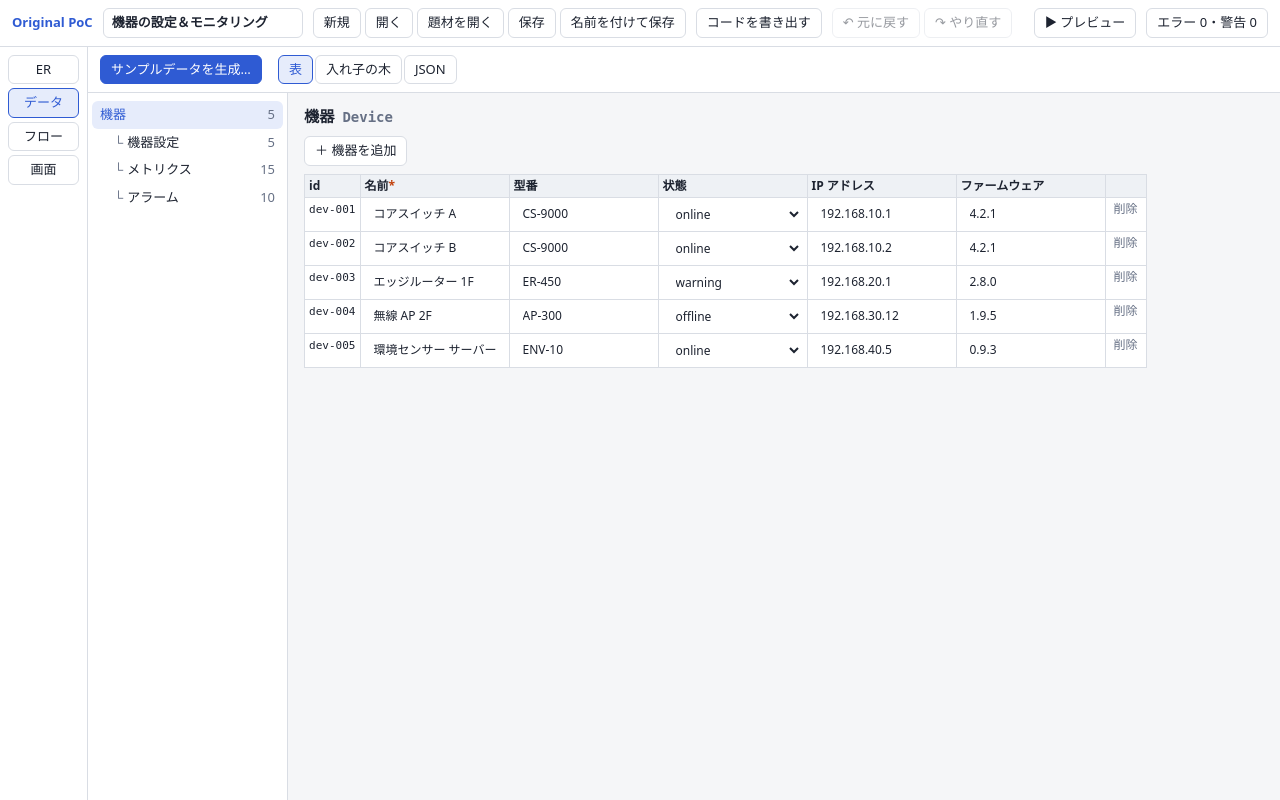
Test: データビュー › 行を消すと入れ子の子も消え、何が消えたかを示す
The image size is (1280, 800).
Click the button with aria-label "dev-003 を削除" at (1126, 276), box [1110,268,1142,286]
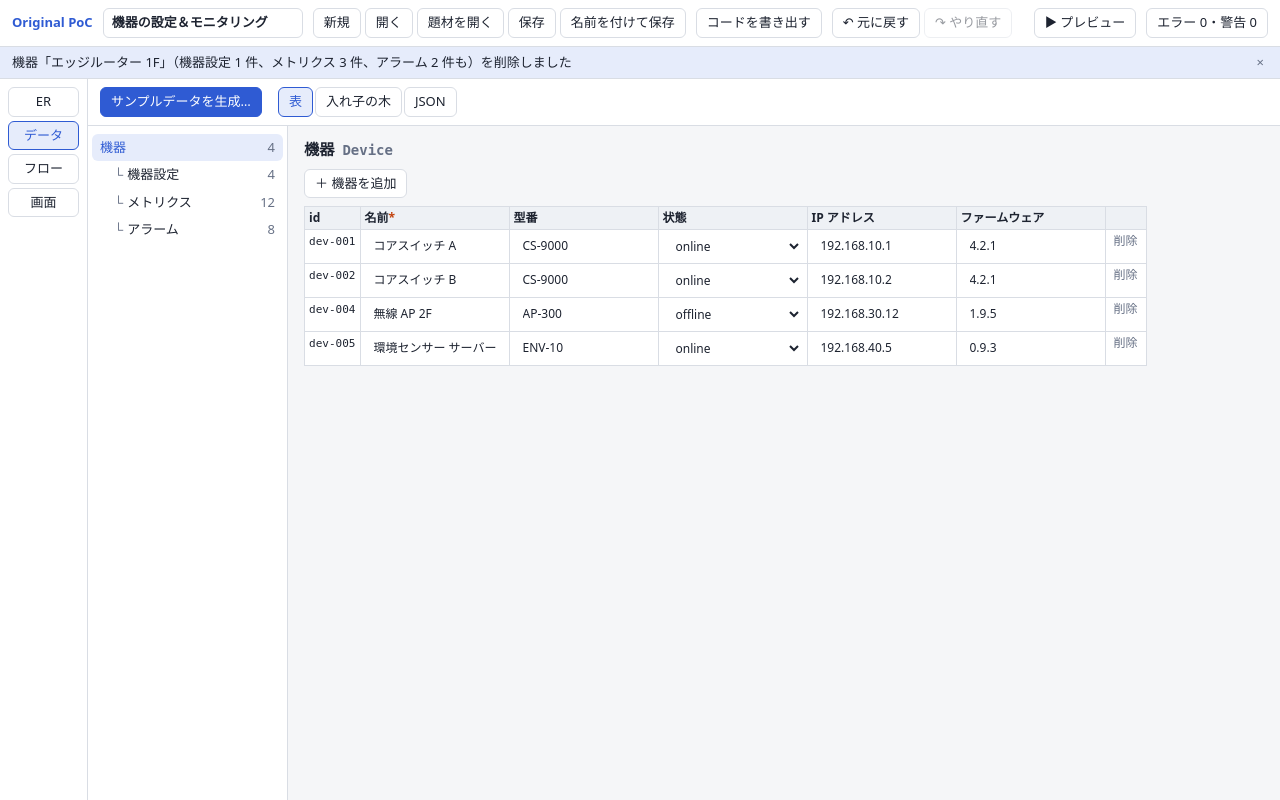
Expected: the text "dev-003" is gone
Expected: the message shows "機器「エッジルーター 1F」（機器設定 1 件、メトリクス 3 件、アラーム 2 件も）を削除しました", [12,52,572,70]
